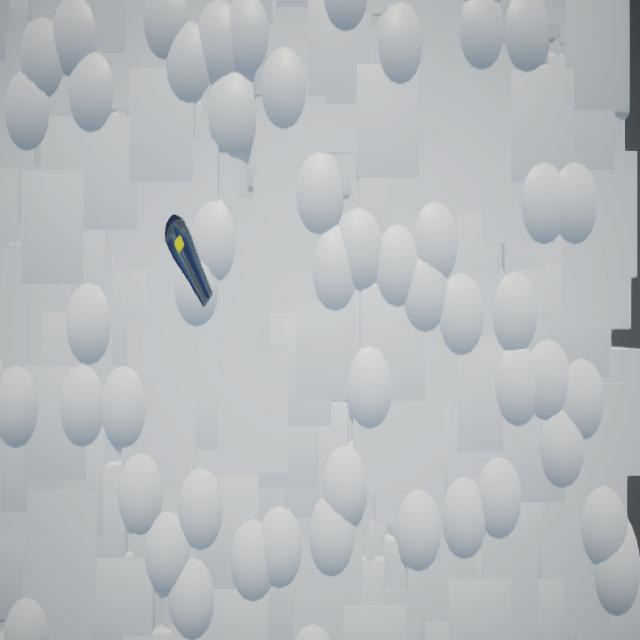handle_knife: (166, 215, 215, 309)
